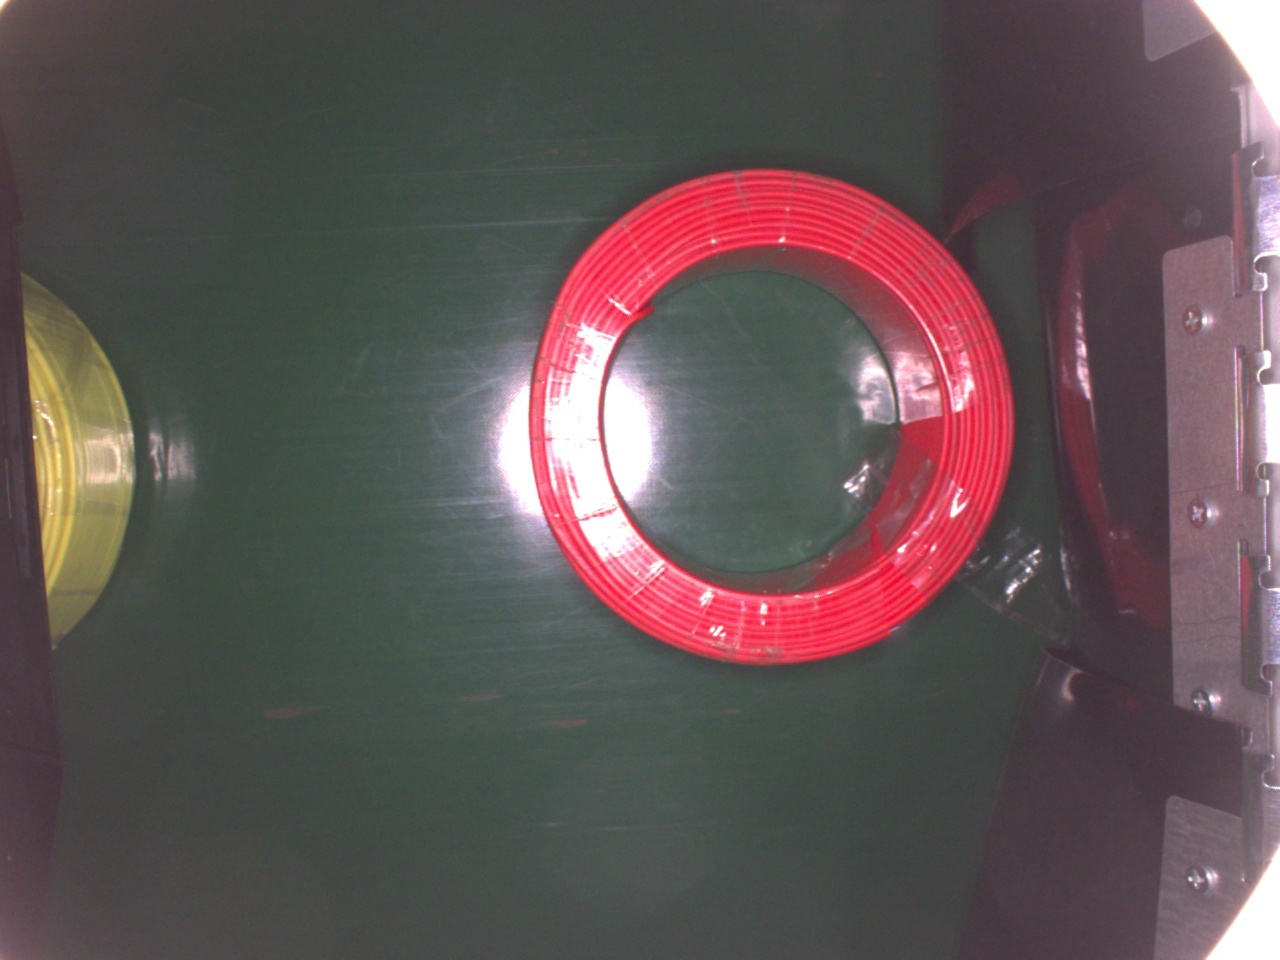red: (511, 158, 1033, 675)
yellow: (23, 271, 143, 655)
